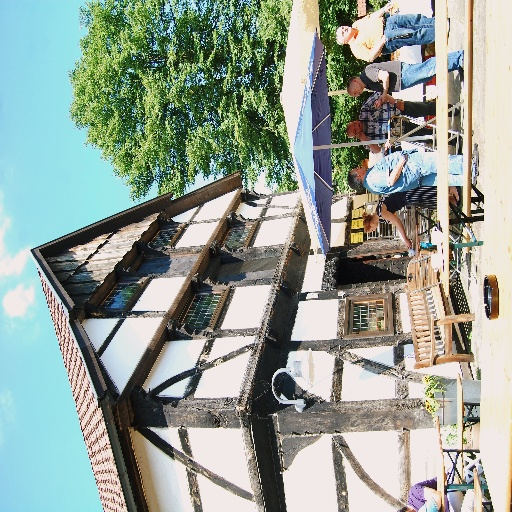hand: (396, 99, 405, 112), (372, 100, 382, 110), (400, 154, 408, 165), (403, 237, 411, 248), (357, 134, 366, 143), (384, 140, 390, 152), (384, 2, 392, 11)
